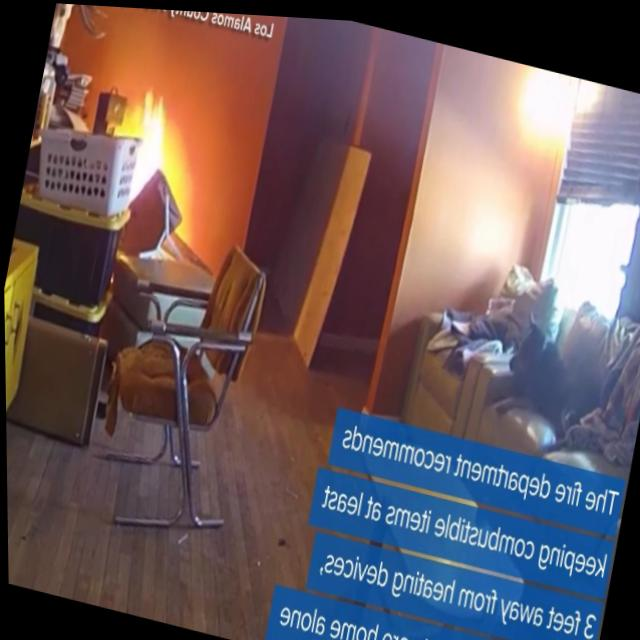fire: (111, 76, 189, 217)
